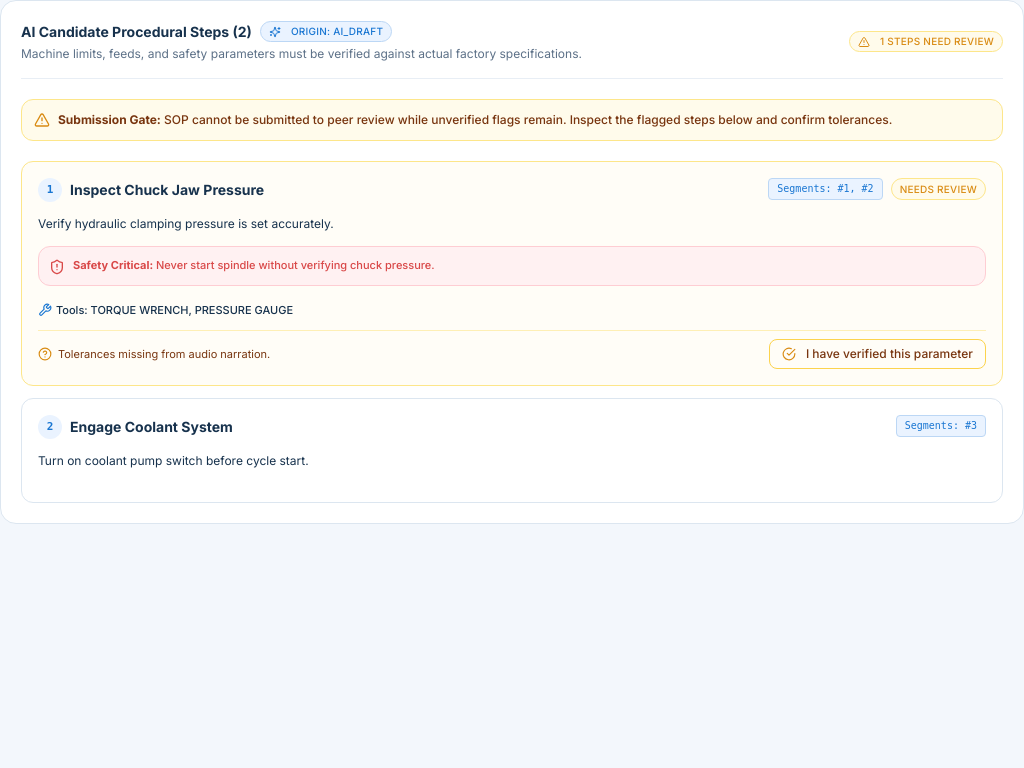
Scenario: Voice-to-Knowledge & RAG UI Component Tests › renders StepDraftReview with safety warnings, segment citations, and allows clearing review flag
The image size is (1024, 768).
Expected: the text "AI Candidate Procedural Steps (2)" is shown, top-left (21, 22), bottom-right (252, 42)
Expected: the text "origin: ai_draft" is shown, top-left (260, 21), bottom-right (392, 42)
Click "I have verified this parameter" button
What coordinates should you click on to do the following:
click the button "I have verified this parameter"
I would click on:
 (877, 354)
Its box is top-left (769, 338), bottom-right (986, 368).
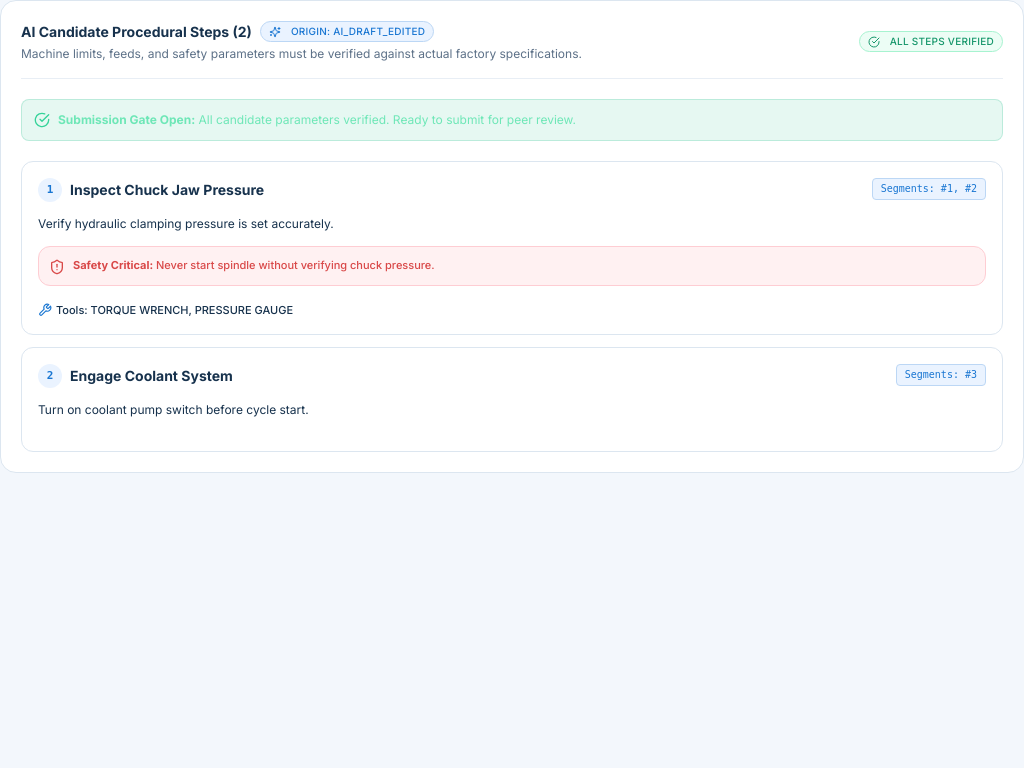
Now the text "All Steps Verified" is shown, box top-left (859, 31), bottom-right (1003, 52)
